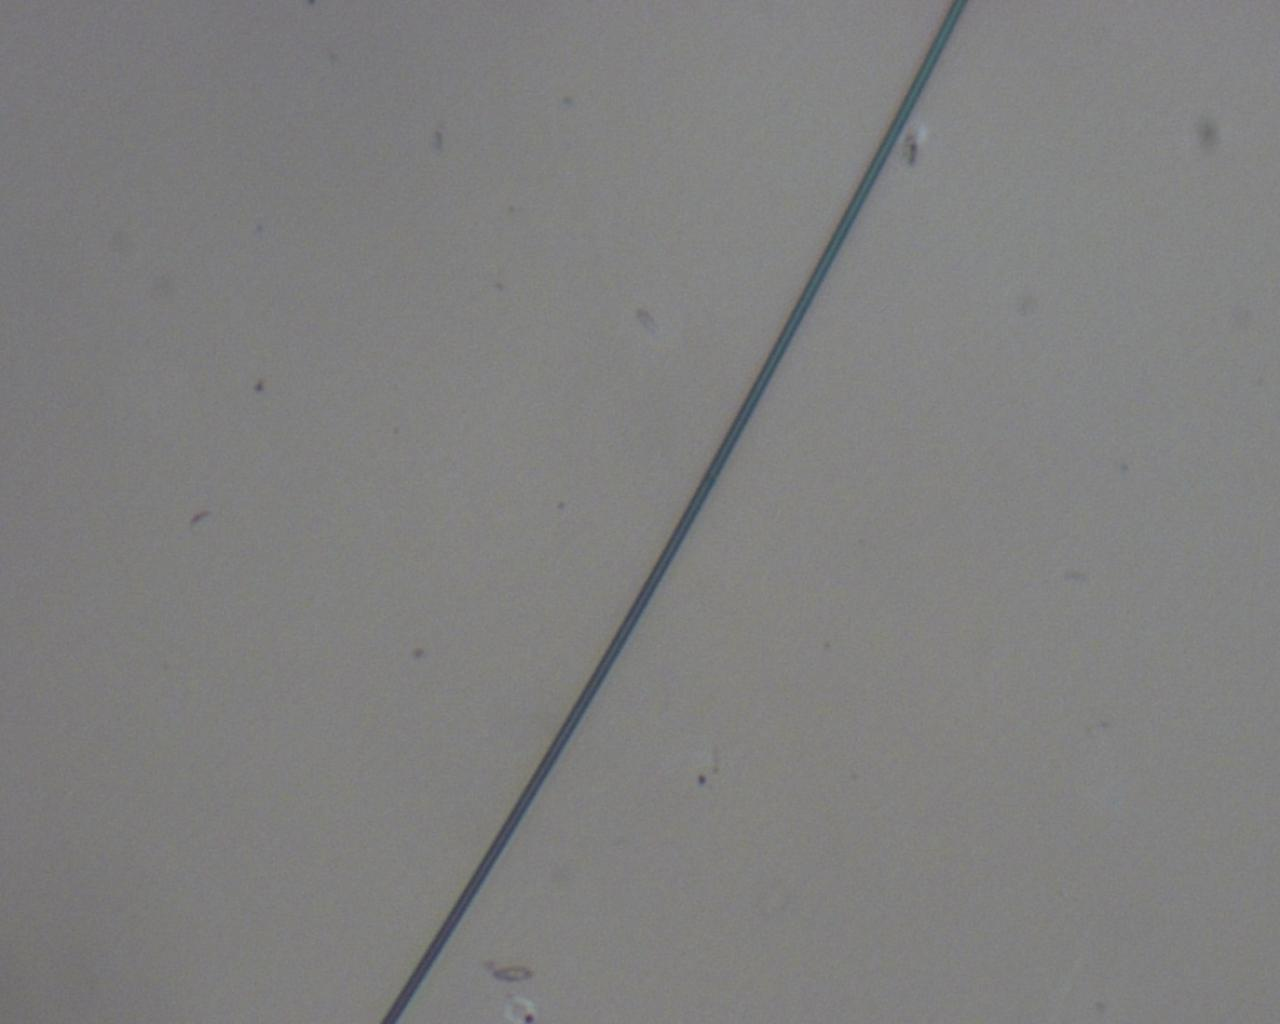fiber: (0, 105, 1280, 837)
